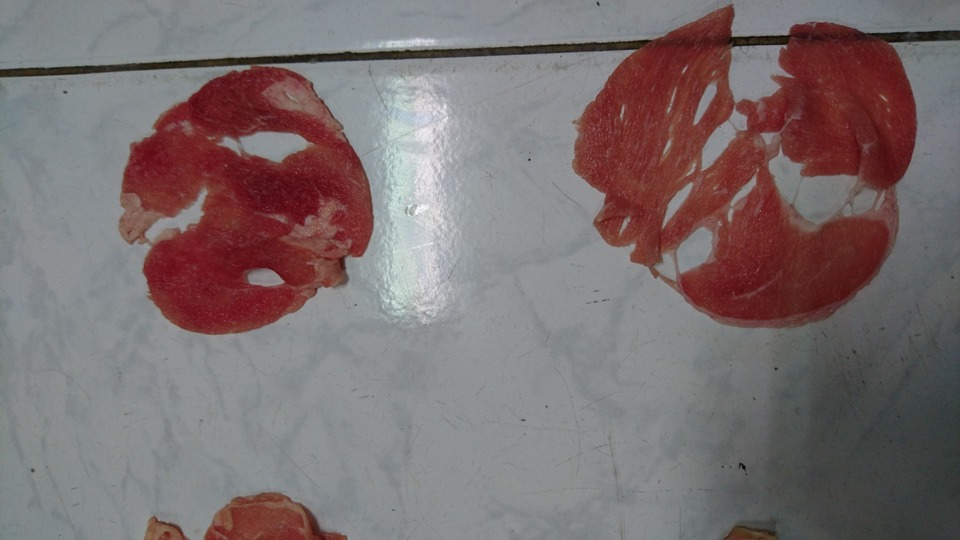restructured meat: (557, 13, 904, 318), (98, 63, 375, 348)
